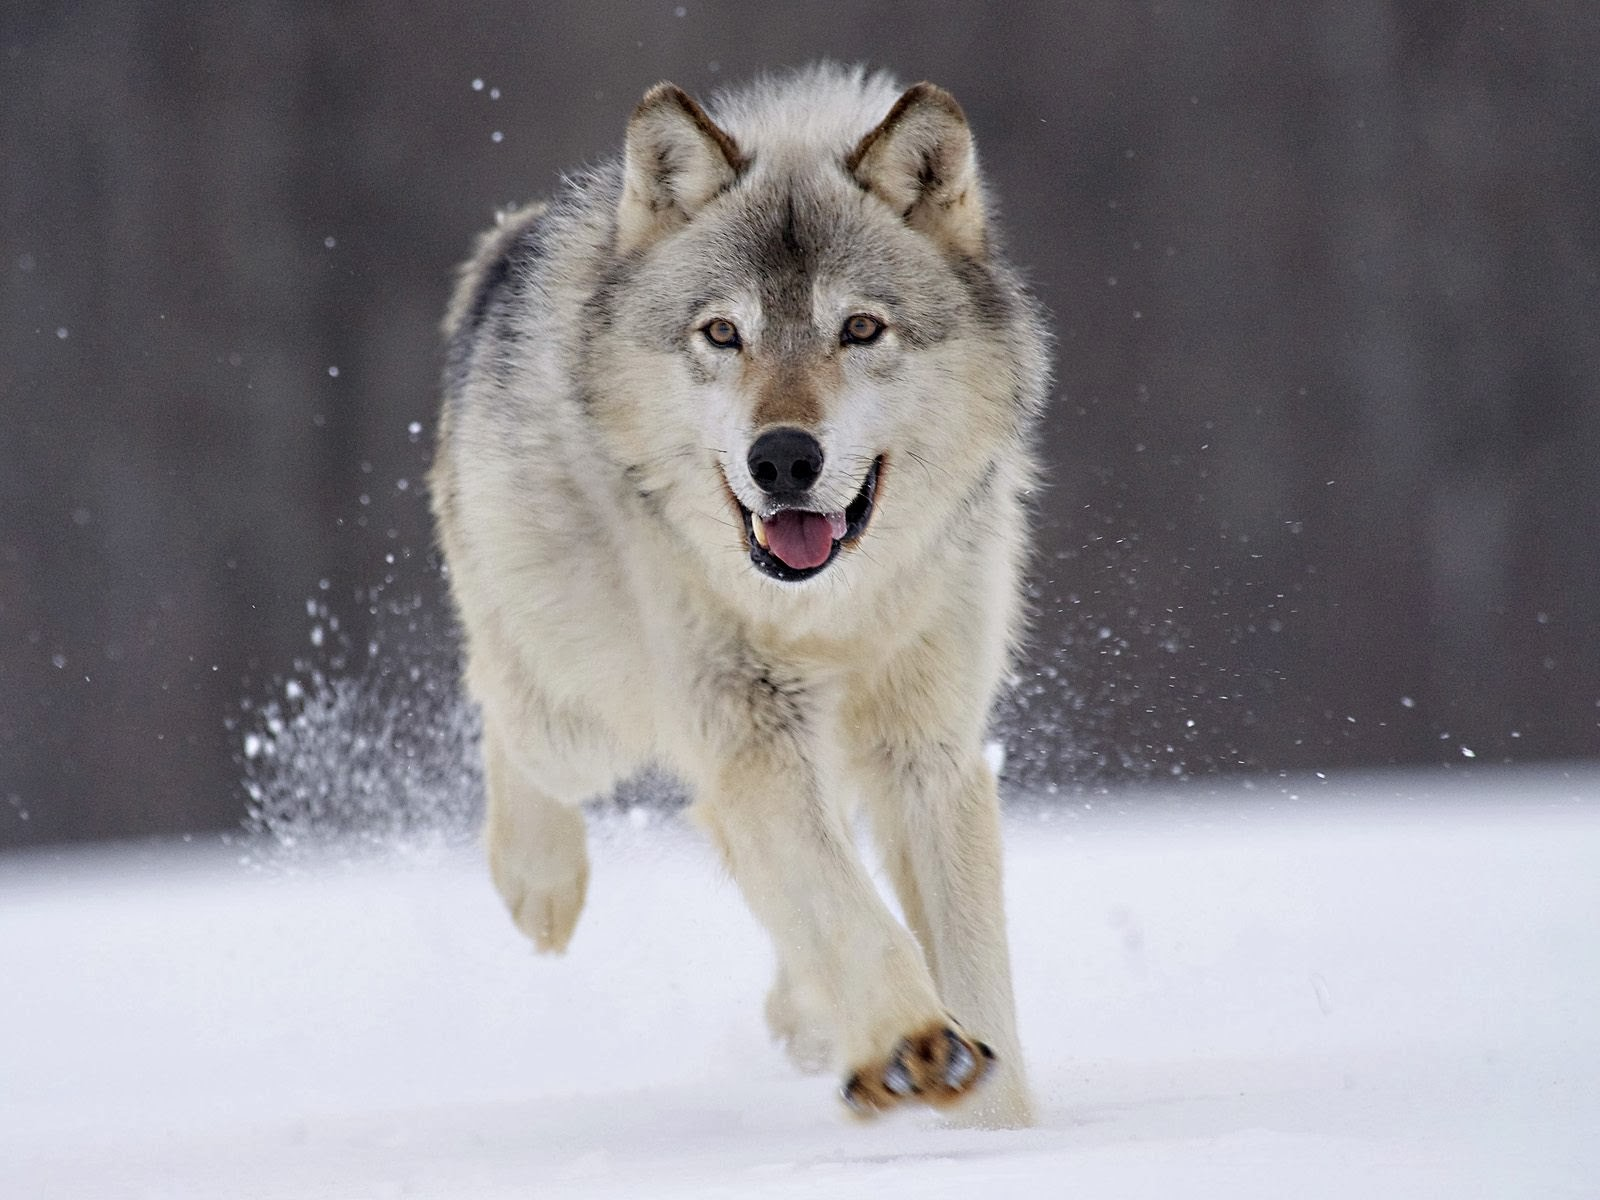dog: (420, 50, 1065, 1121)
siberian-husky: (417, 48, 1062, 1119)
